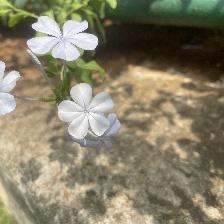chitrak: (59, 81, 119, 149), (29, 14, 100, 62), (1, 58, 24, 117)
